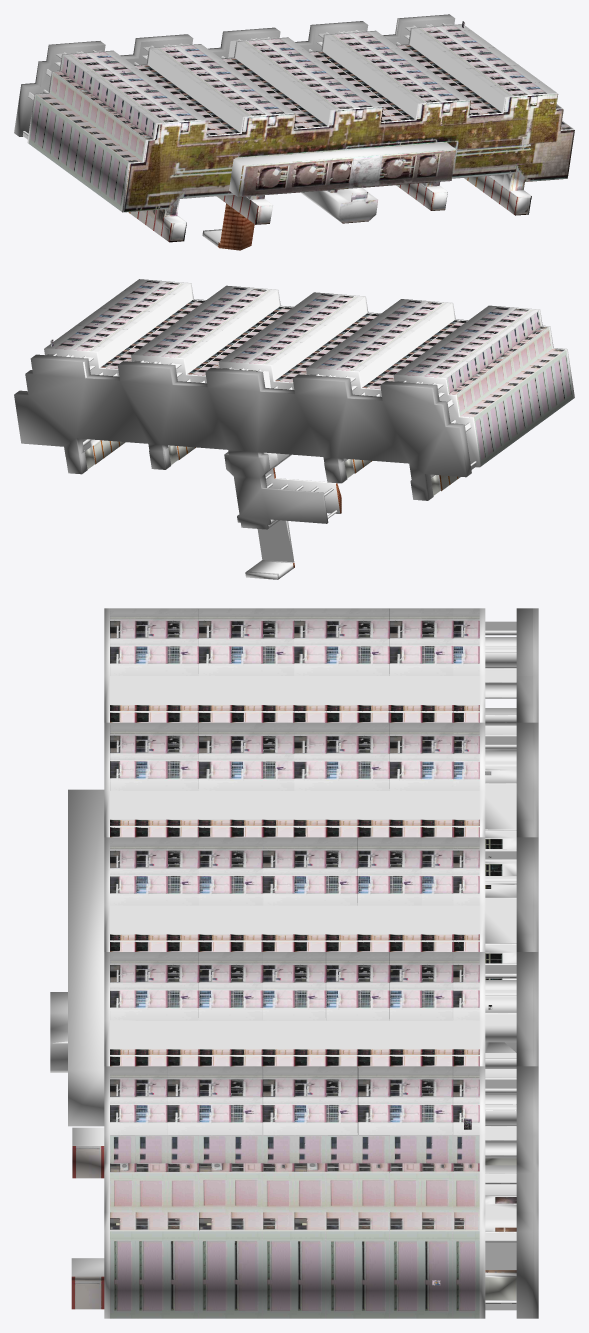
Rendered from amk_blk337_building.obj.
3 views of the same model, one above another, from view 1: azimuth 30°, elevation 25°; view 2: azimuth 150°, elevation 25°; view 3: azimuth 270°, elevation 25° (orthographic). The views are drawn at different scales.
Visible parts, largest first — view 1: polygon.808; view 2: polygon.808; view 3: polygon.808.
Boxes of the visible parts, x1,y1,x2,y2 form: polygon.808: (14, 14, 574, 250); polygon.808: (14, 279, 574, 579); polygon.808: (50, 608, 538, 1318).
Size of the model in its own units: 92.05 by 45.48 by 43.01.
1 material, 1 textured.
